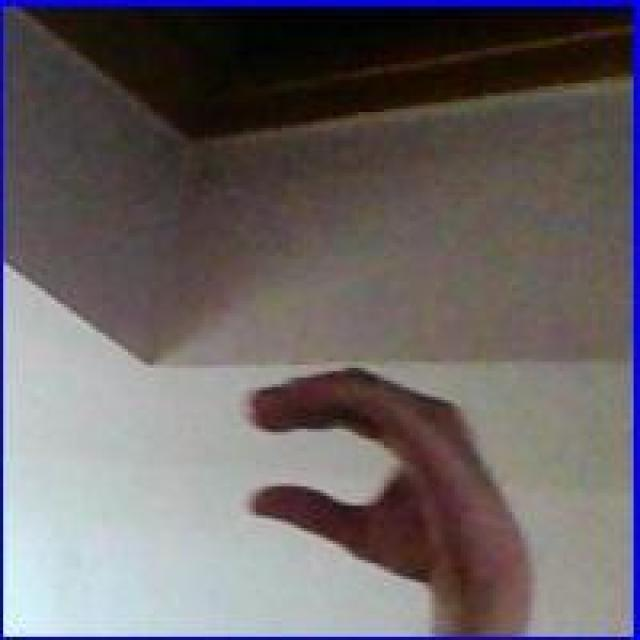C: (234, 366, 528, 600)
